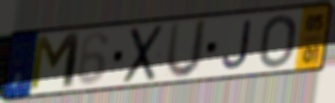6: (75, 30, 111, 88)
J: (220, 19, 254, 71)
M: (26, 30, 83, 95)
O: (257, 13, 299, 71)
U: (163, 18, 210, 81)
X: (121, 22, 167, 86)
